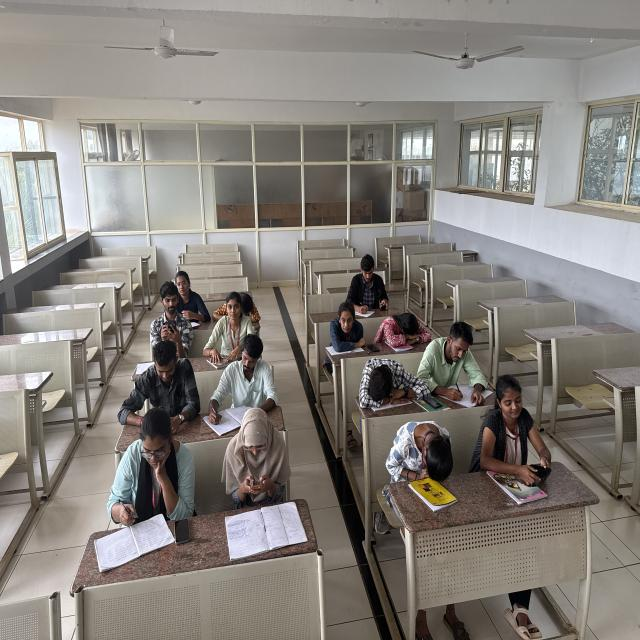Sleeping: (382, 416, 458, 494), (356, 354, 436, 416), (323, 300, 370, 356), (213, 288, 271, 330), (376, 309, 432, 352)
Using Phone: (216, 406, 301, 524), (472, 375, 554, 488), (117, 339, 203, 436), (144, 277, 194, 352)
Writing: (94, 403, 198, 554), (206, 335, 284, 431), (419, 320, 496, 408), (350, 250, 387, 321)
